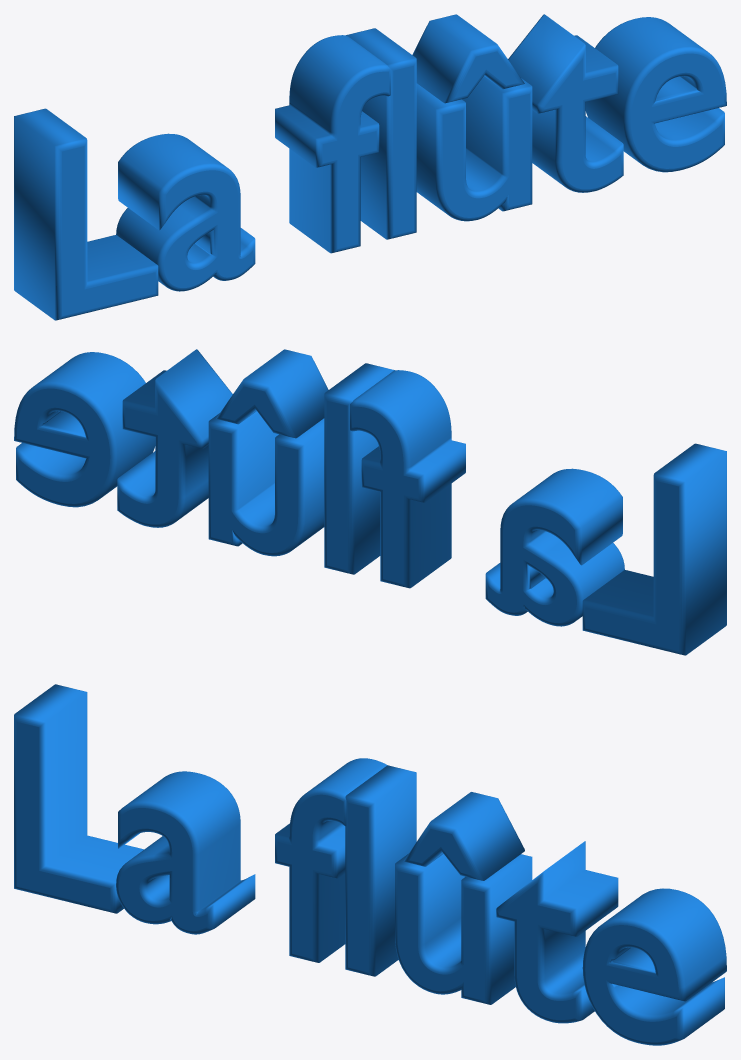
3 renders of one model, top to bottom at view 1: azimuth 30°, elevation 25°; view 2: azimuth 150°, elevation 25°; view 3: azimuth 330°, elevation 25°, orthographic.
Visible parts, largest first — view 1: Text; view 2: Text; view 3: Text.
Part boxes in pixels (left/top/right/bottom): Text: left=14, top=14, right=726, bottom=320; Text: left=14, top=349, right=726, bottom=655; Text: left=14, top=684, right=726, bottom=1045.
Bounding box in the file's own units: 2.91 × 0.7404 × 0.34.
